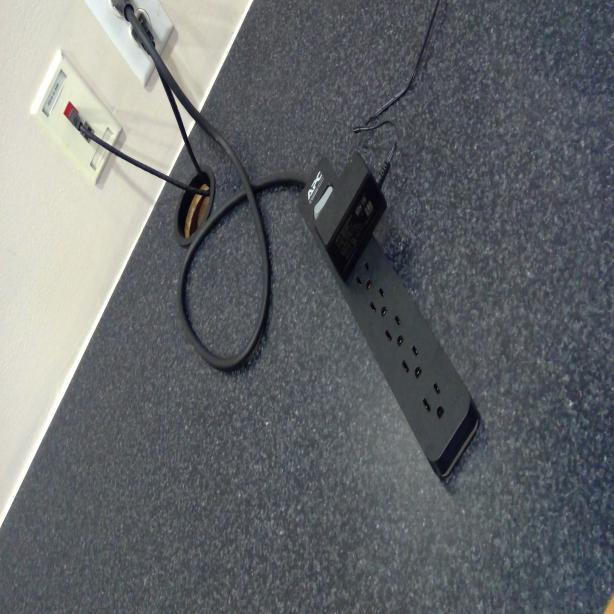typeb: (422, 379, 450, 420), (401, 345, 425, 381), (385, 314, 406, 348), (369, 287, 390, 319), (355, 260, 373, 290)
